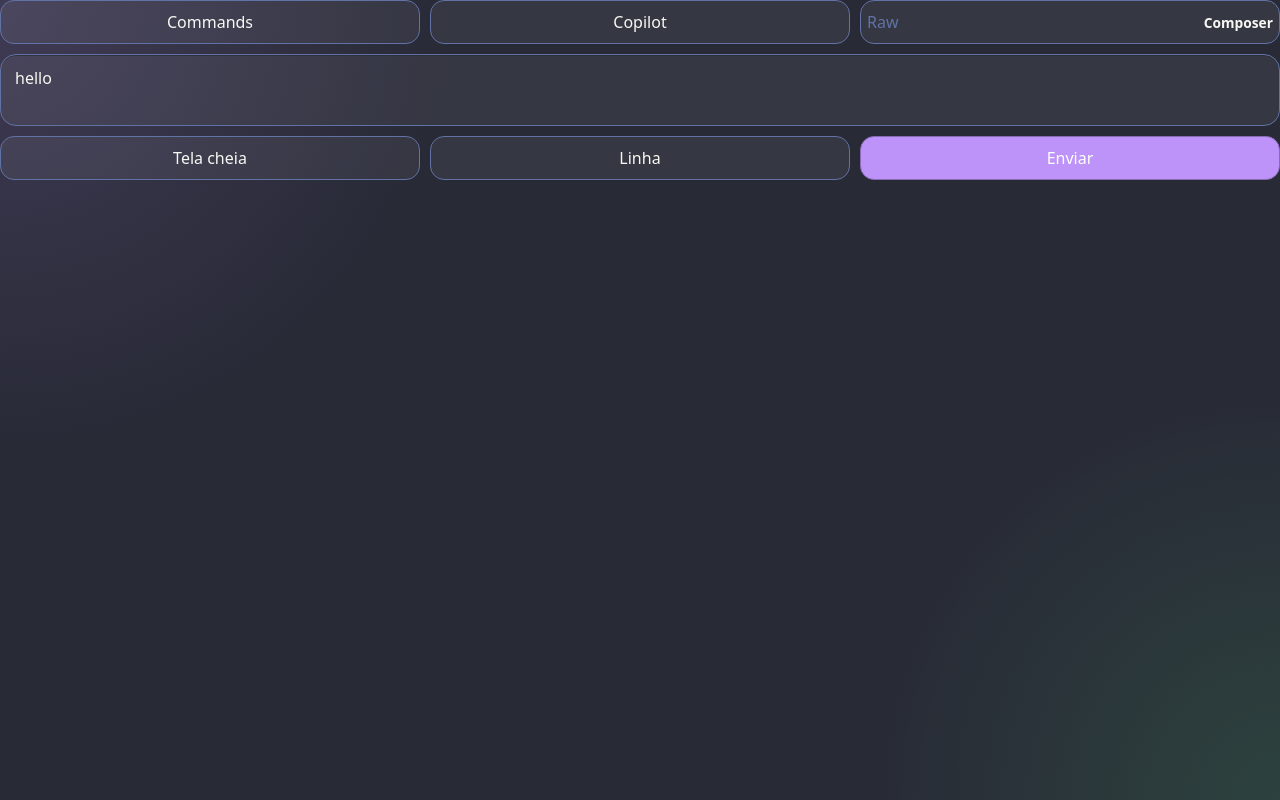
Scenario: InputBar › submits from the fullscreen editor with Ctrl+Enter
The image size is (1280, 800).
Click the button "Tela cheia": click(210, 158) 0,136 -> 420,180
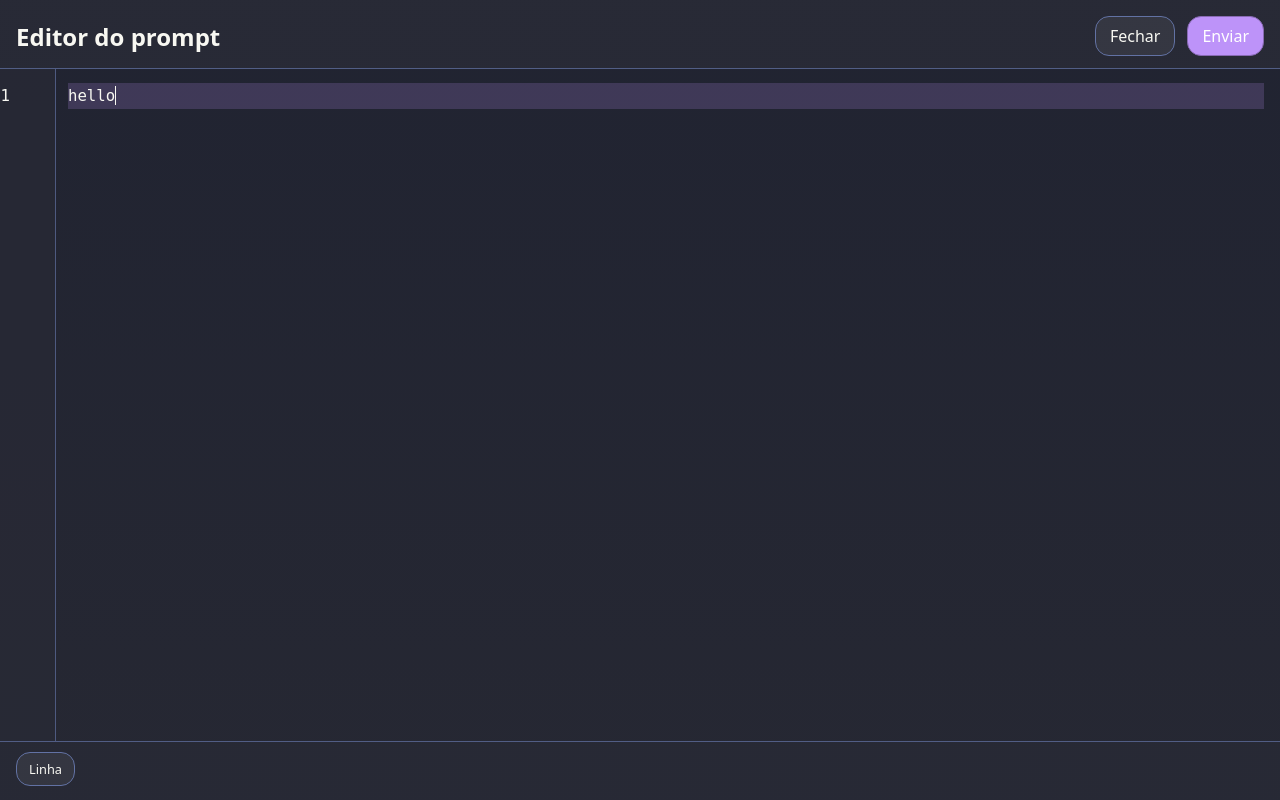
Click the field named "Editor do prompt em tela cheia": click(666, 96) 68,83 -> 1264,109
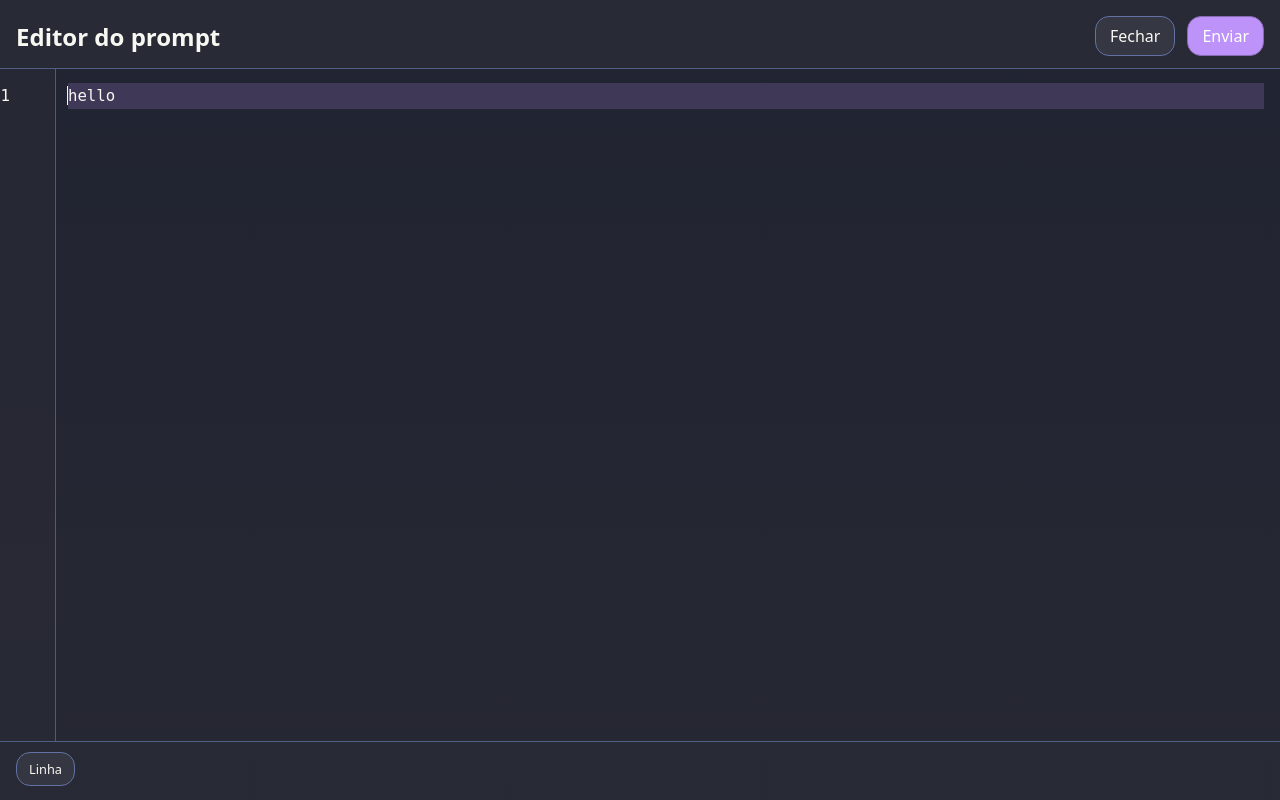
Type keys "{Control>}{Enter}{/Control}"
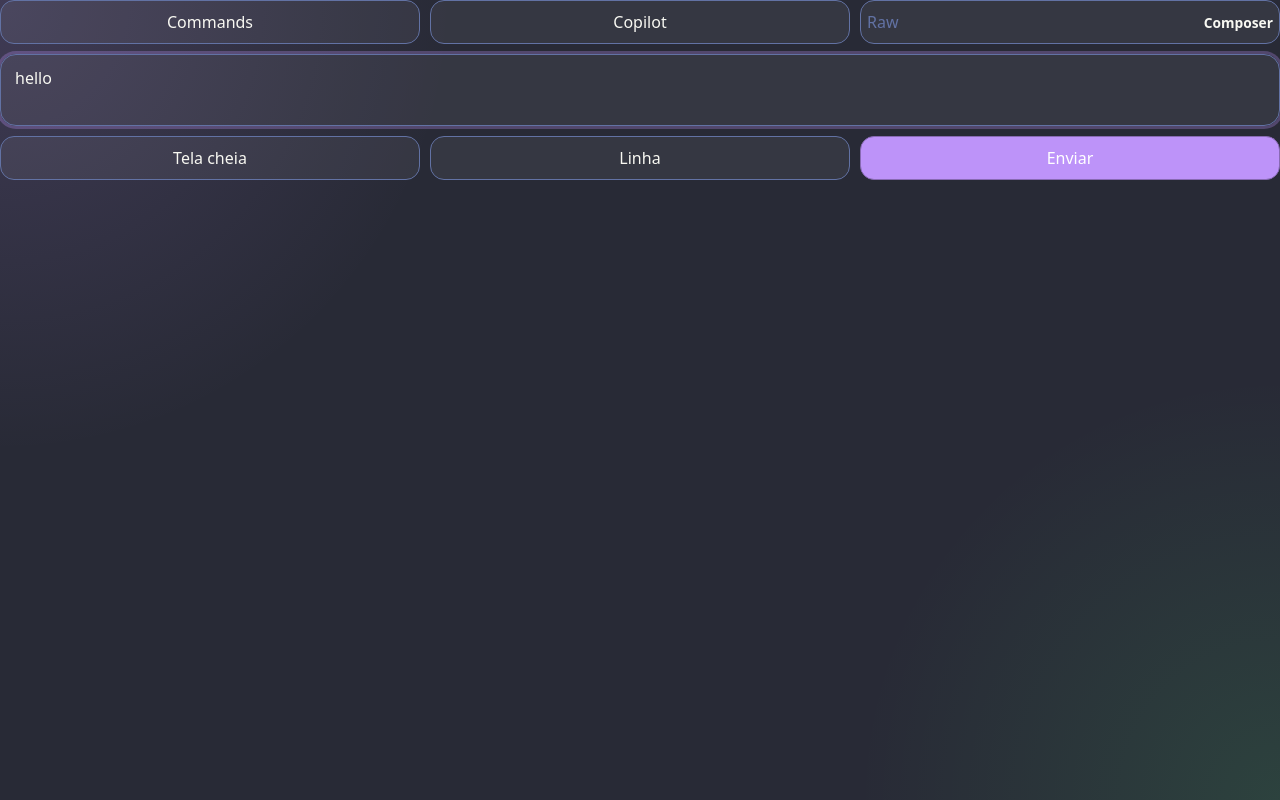
Expected: the heading "Editor do prompt" is gone
